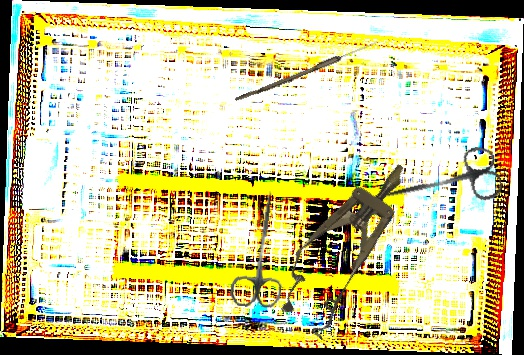Iris Scissors: (376, 143, 505, 225), (228, 187, 294, 311)
Speculum: (263, 145, 432, 341)
Surgical Spoon: (234, 38, 379, 105)
